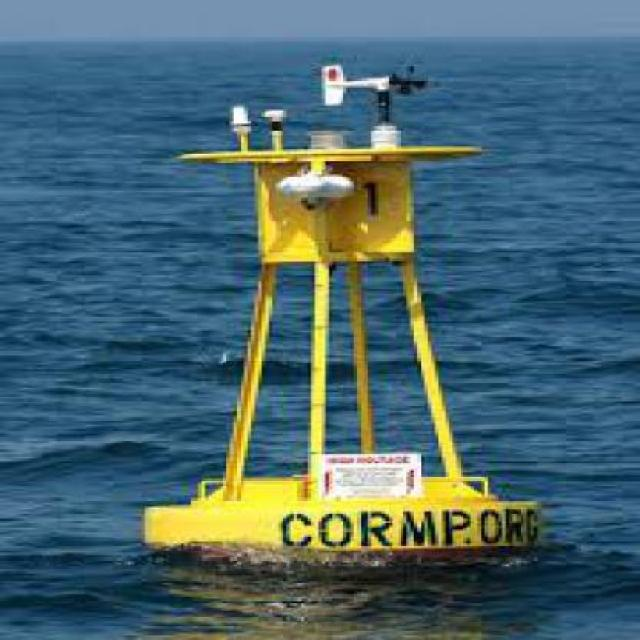buoy: (139, 59, 550, 568)
